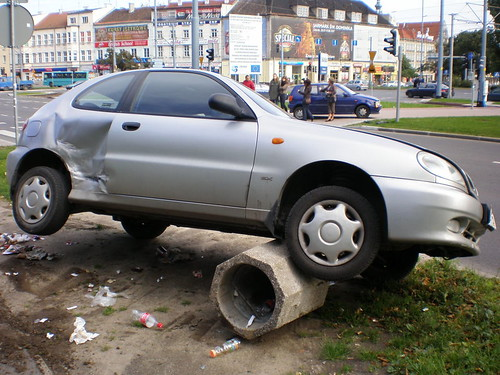building: (156, 1, 395, 83), (30, 1, 93, 77), (92, 8, 155, 78)
car: (28, 77, 478, 245), (285, 82, 377, 121)
trash: (1, 226, 263, 359)
